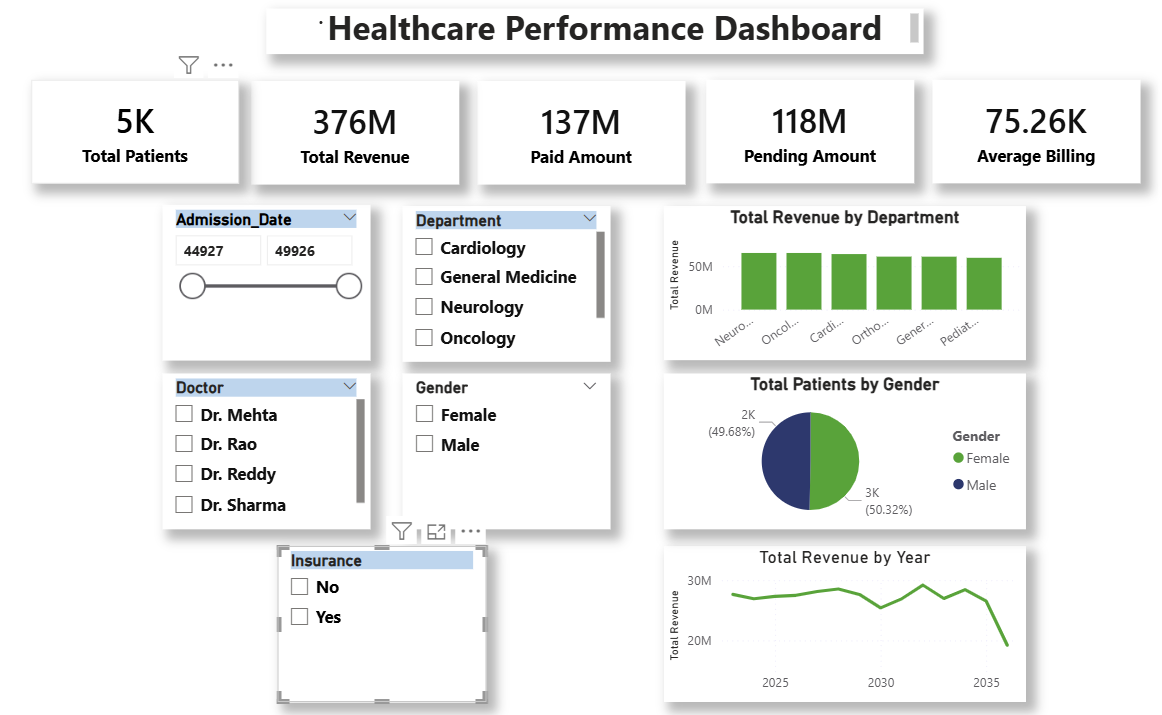

The dashboard page shown, as its layout file describes it:
{"tool":"powerbi","page":{"name":"Page 1","canvas":[1280,720],"ordinal":0},"visuals":[{"type":"slicer","fields":{"Values":["Sheet1.Department"]},"box":[503.8,217.7,200.5,150.4],"z":0},{"type":"slicer","fields":{"Values":["Sheet1.Gender"]},"box":[503.8,379.1,200.5,150.4],"z":1000},{"type":"slicer","fields":{"Values":["Sheet1.Admission_Date"]},"box":[272.7,216.4,200.5,150.4],"z":2000},{"type":"slicer","fields":{"Values":["Sheet1.Insurance"]},"box":[383.6,545.3,201.5,150.8],"z":3000},{"type":"slicer","fields":{"Values":["Sheet1.Doctor"]},"box":[272.7,379.1,200.5,150.4],"z":4000},{"type":"clusteredColumnChart","fields":{"Category":["Sheet1.Department"],"Y":["Sheet1.Total Revenue"]},"box":[756.9,217.7,349.7,149.2],"z":5000},{"type":"pieChart","fields":{"Category":["Sheet1.Gender"],"Y":["Calendar.Total Patients"]},"box":[756.9,379.1,349.7,150.4],"z":6000},{"type":"lineChart","fields":{"Category":["Calendar.Date.Variation.Date Hierarchy.Year","Calendar.Date.Variation.Date Hierarchy.Quarter","Calendar.Date.Variation.Date Hierarchy.Month","Calendar.Date.Variation.Date Hierarchy.Day"],"Y":["Sheet1.Total Revenue"]},"box":[756.9,545.4,349.7,150.4],"z":7000},{"type":"textbox","box":[373,26.9,634.7,44],"z":8000},{"type":"cardVisual","fields":{"Data":["Calendar.Paid Amount"]},"box":[577.2,96.6,200.5,100],"z":9000},{"type":"cardVisual","fields":{"Data":["Calendar.Pending Amount"]},"box":[797.3,95.4,200.5,100.3],"z":10000},{"type":"cardVisual","fields":{"Data":["Calendar.Average Billing"]},"box":[1016.2,95.4,200.5,100.3],"z":11000},{"type":"cardVisual","fields":{"Data":["Sheet1.Total Revenue"]},"box":[358.3,96.6,200.5,100.3],"z":12000},{"type":"cardVisual","fields":{"Data":["Calendar.Total Patients"]},"box":[146,95.3,200.3,100.1],"z":12001}]}

Visuals, with their boxes on the page's 1280x720 design canvas (x1, y1, x2, y2). These are canvas units, not pixel positions in the 1162x715 screenshot, which may show the page scaled, cropped or inside an application window:
slicer - Sheet1.Department: <bbox>504, 218, 704, 368</bbox>
slicer - Sheet1.Gender: <bbox>504, 379, 704, 530</bbox>
slicer - Sheet1.Admission_Date: <bbox>273, 216, 473, 367</bbox>
slicer - Sheet1.Insurance: <bbox>384, 545, 585, 696</bbox>
slicer - Sheet1.Doctor: <bbox>273, 379, 473, 530</bbox>
clusteredColumnChart - Sheet1.Department x Sheet1.Total Revenue: <bbox>757, 218, 1107, 367</bbox>
pieChart - Sheet1.Gender x Calendar.Total Patients: <bbox>757, 379, 1107, 530</bbox>
lineChart - Calendar.Date.Variation.Date Hierarchy.Year x Calendar.Date.Variation.Date Hierarchy.Quarter: <bbox>757, 545, 1107, 696</bbox>
textbox: <bbox>373, 27, 1008, 71</bbox>
cardVisual - Calendar.Paid Amount: <bbox>577, 97, 778, 197</bbox>
cardVisual - Calendar.Pending Amount: <bbox>797, 95, 998, 196</bbox>
cardVisual - Calendar.Average Billing: <bbox>1016, 95, 1217, 196</bbox>
cardVisual - Sheet1.Total Revenue: <bbox>358, 97, 559, 197</bbox>
cardVisual - Calendar.Total Patients: <bbox>146, 95, 346, 195</bbox>
